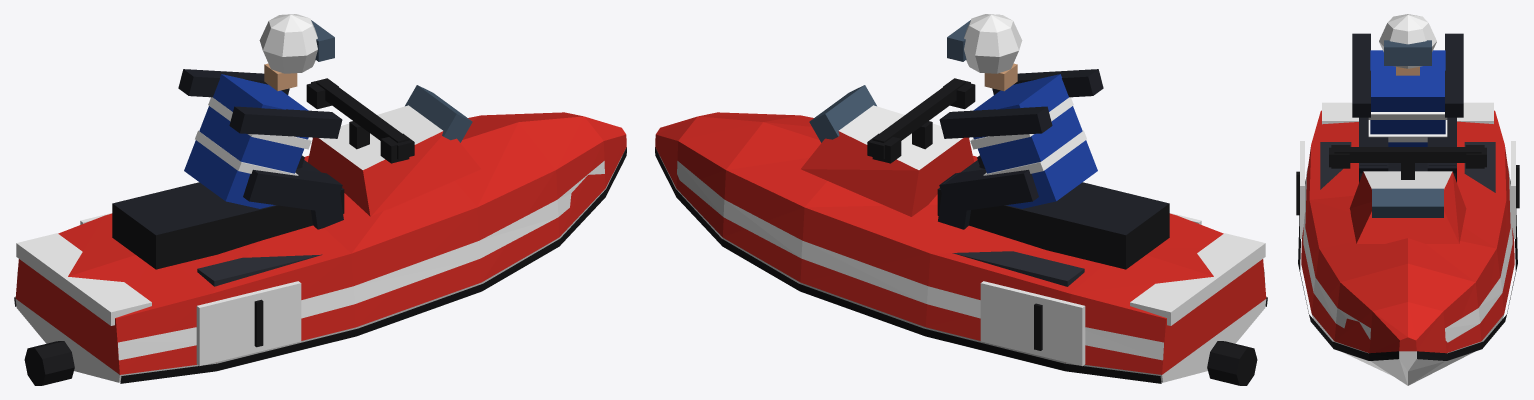
The model's file is jetski.obj.
The picture shows the model from 3 angles, left to right: view 1: azimuth 30°, elevation 25°; view 2: azimuth 150°, elevation 25°; view 3: azimuth 270°, elevation 25°; orthographic projection. The views are drawn at different scales.
Visible parts, largest first — view 1: jetski; view 2: jetski; view 3: jetski.
Part boxes in pixels (x1,y1,x2,y2): jetski: (14, 14, 626, 385); jetski: (655, 14, 1267, 385); jetski: (1296, 14, 1519, 385).
Bounding box in the file's own units: 3.58 × 1.85 × 1.3.
